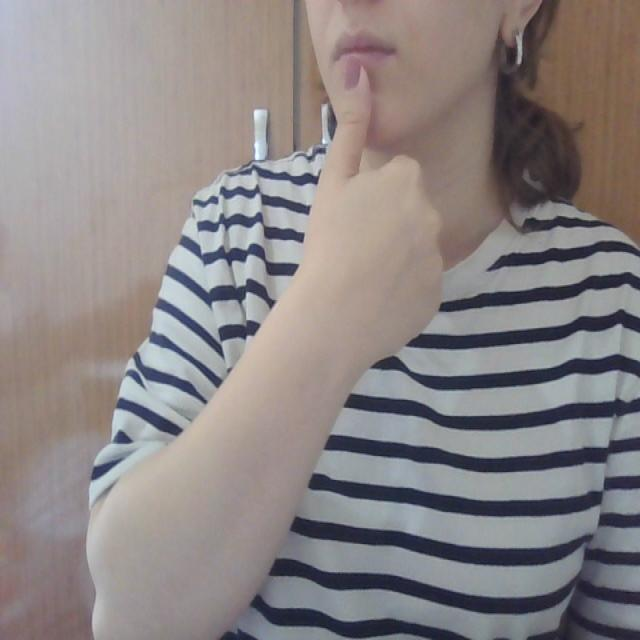Baba: (318, 9, 404, 152)
